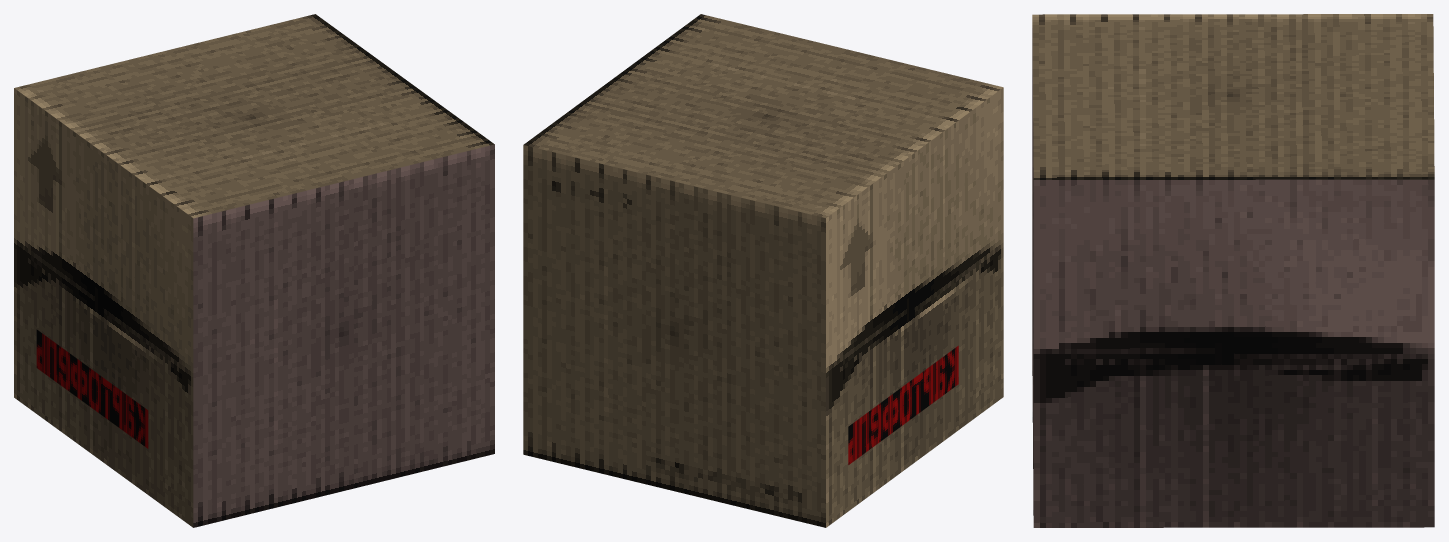
The model's file is primary_077.glb.
The picture shows the model from 3 angles, left to right: view 1: azimuth 30°, elevation 25°; view 2: azimuth 150°, elevation 25°; view 3: azimuth 270°, elevation 25°; orthographic projection. The views are drawn at different scales.
Visible parts, largest first — view 1: Object; view 2: Object; view 3: Object.
Part boxes in pixels (x1,y1,x2,y2): Object: [14, 14, 494, 527]; Object: [523, 14, 1003, 527]; Object: [1032, 14, 1434, 527].
Bounding box in the file's own units: 1.1 × 1.07 × 1.12.
Materials: 7 (7 with a texture image).
